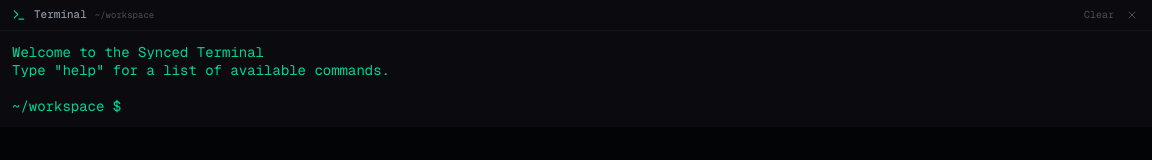
TerminalPanel › clears terminal on clear command
Type "clear" into the field at (631,106), box [121,97,1140,115]
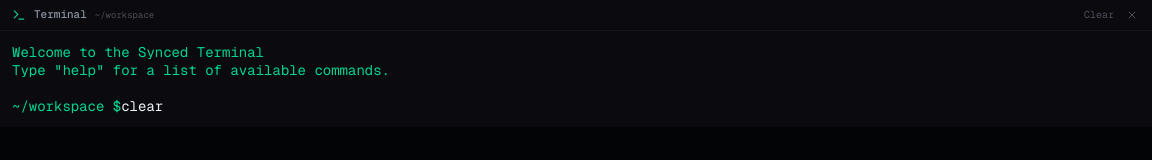
Press Enter in the field, box [121,97,1140,115]
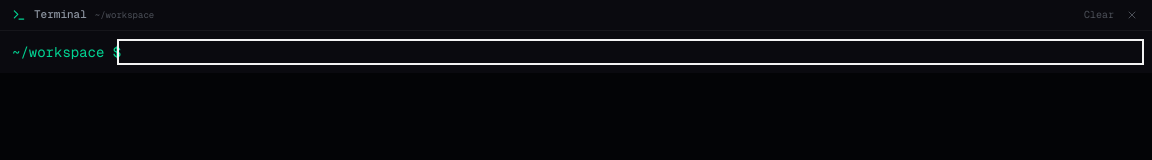
Now the text "Welcome to the Synced Terminal" is gone
